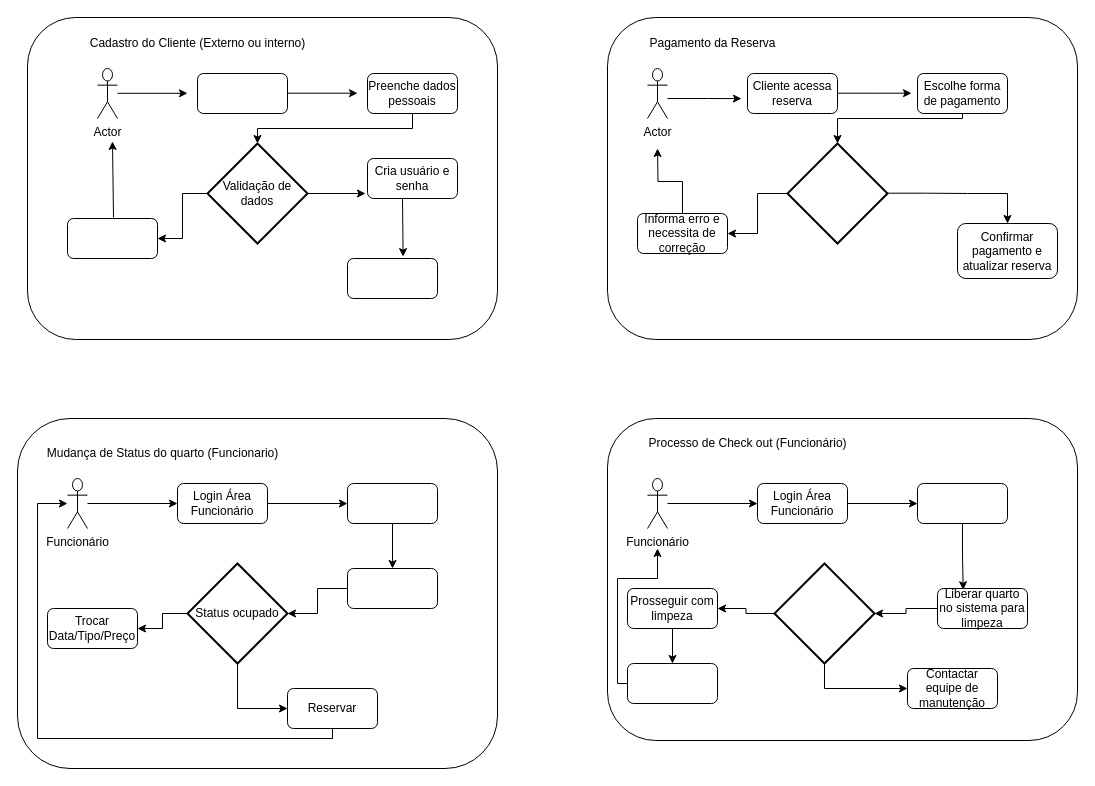
This 1095x786 diagram has some shape labels left out. The shapes that lost their labels are listed below. From the top down, each one's centre as x and y in pixels, then its label:
(242,93): Acesso a área de cadastro
(837,193): Processo do pagamento
(112,238): Solicita correção de dados
(392,278): Cadastro efetuado
(392,503): Consulta Status dos quartos
(962,503): Consultar check out
(392,588): Filtra por Data/ Tipo/ Preço
(824,613): Precisa de reparos?
(672,683): Reservar para outro hóspede
